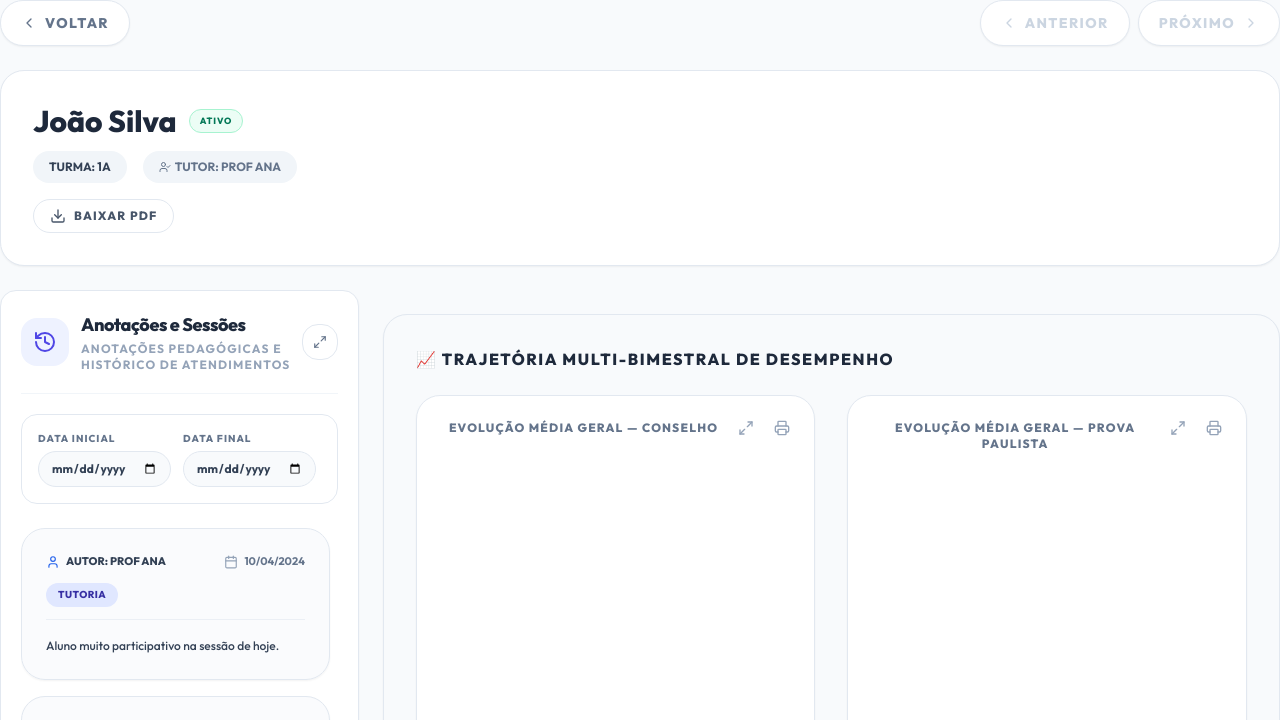
Test: StudentProfile — período das ocorrências › limpa o período selecionado e restaura as ocorrências
Type "2024-04-20" into the date field named "Data inicial das ocorrências" at (104, 469), box [38,451,171,487]
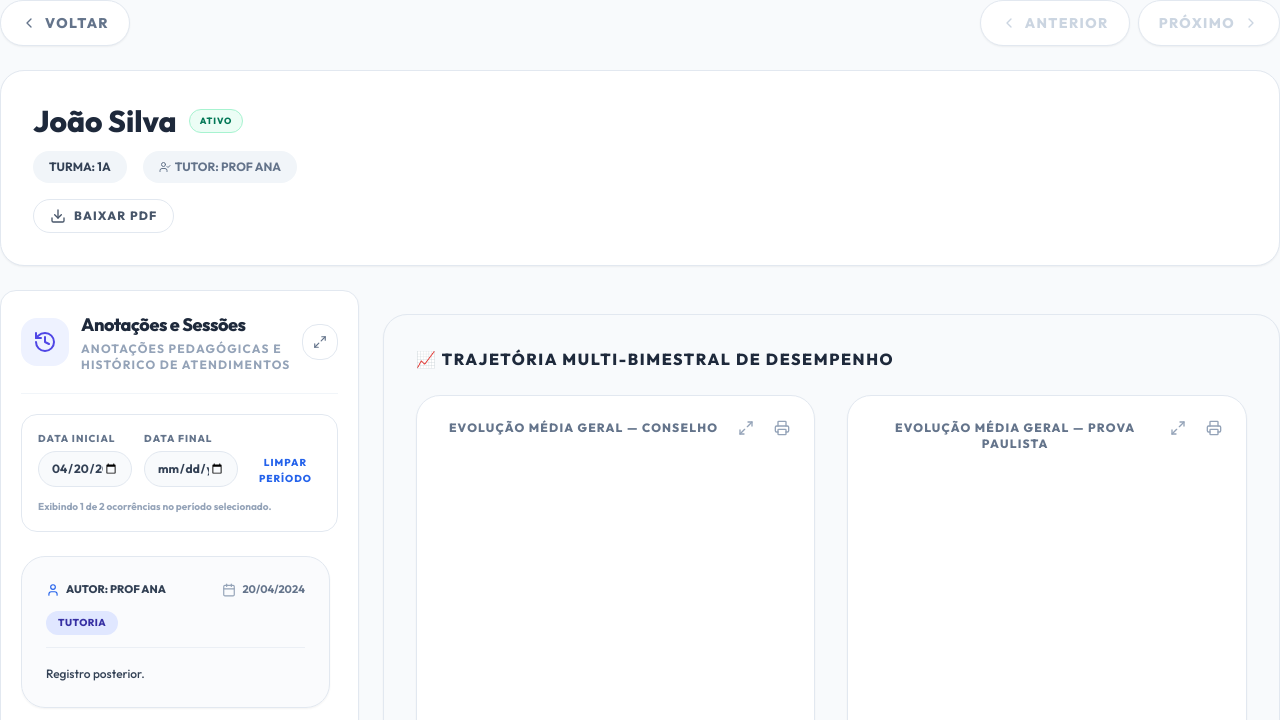
Expected: the text "Aluno muito participativo na sessão de hoje." is gone
Click the button "Limpar período" at (285, 471), box [250,455,321,487]
(page scrolled)
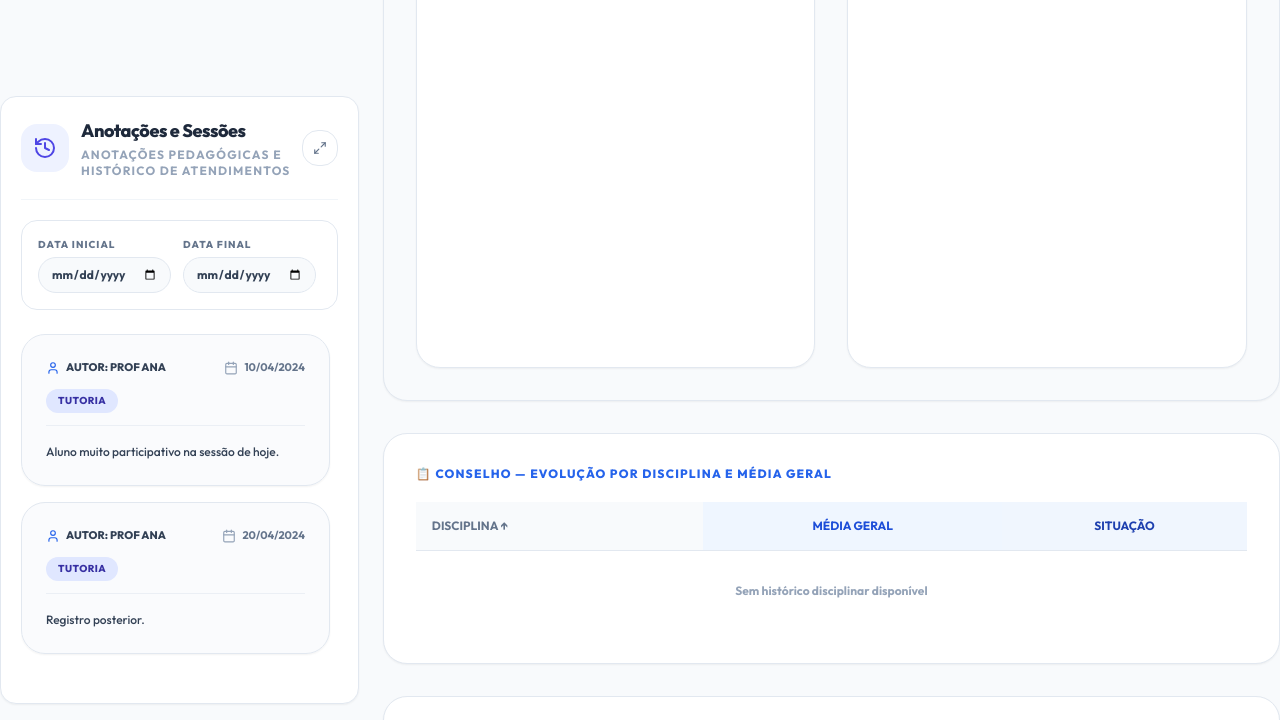
Expected: the text "Registro posterior." is shown, [46,612,145,627]
Expected: the text "Aluno muito participativo na sessão de hoje." is shown, [46,442,305,461]
